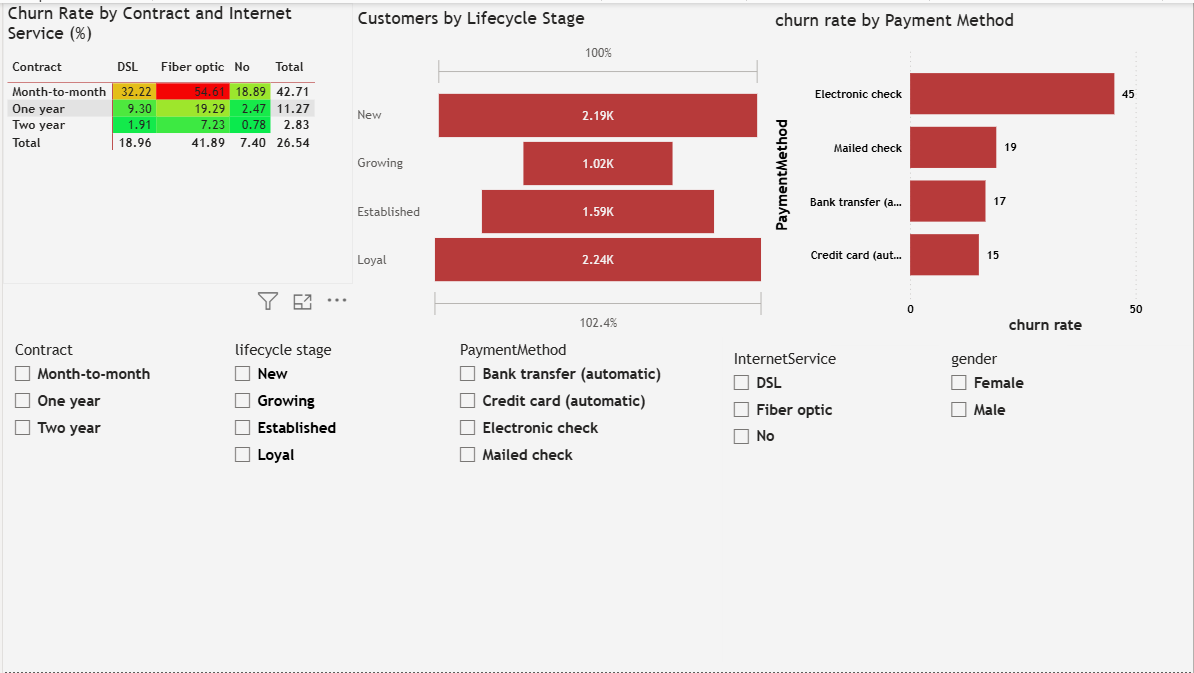

The page's visual inventory and layout, read from the dashboard file:
{"tool":"powerbi","page":{"name":"Segment Analysis","canvas":[1280,720],"ordinal":1},"visuals":[{"type":"pivotTable","title":"Churn Rate by Contract and Internet Service (%)","fields":{"Rows":["Customers Churn Analysis powerBI_30.Contract"],"Columns":["Customers Churn Analysis powerBI_30.InternetService"],"Values":["Customers Churn Analysis powerBI_30.churn rate"]},"box":[0,0,376.6,302.6],"z":0},{"type":"funnel","title":"Customers by Lifecycle Stage","fields":{"Y":["CountNonNull(Customers Churn Analysis powerBI_30.customerID)"],"Category":["Customers Churn Analysis powerBI_30.lifecycle stage"]},"box":[376.6,5.4,449.2,353.7],"z":1000},{"type":"slicer","fields":{"Values":["Customers Churn Analysis powerBI_30.Contract"]},"box":[0,359.5,236,360.9],"z":2000},{"type":"slicer","fields":{"Values":["Customers Churn Analysis powerBI_30.InternetService"]},"box":[773.9,369.1,233.3,351.3],"z":3000},{"type":"slicer","fields":{"Values":["Customers Churn Analysis powerBI_30.gender"]},"box":[1007.2,369.1,273.1,351.3],"z":4000},{"type":"slicer","fields":{"Values":["Customers Churn Analysis powerBI_30.PaymentMethod"]},"box":[478.9,359.5,295,360.9],"z":5000},{"type":"slicer","fields":{"Values":["Customers Churn Analysis powerBI_30.lifecycle stage"]},"box":[236,359.5,242.9,360.9],"z":6000},{"type":"clusteredBarChart","title":"churn rate by Payment Method","fields":{"Category":["Customers Churn Analysis powerBI_30.PaymentMethod"],"Y":["Customers Churn Analysis powerBI_30.churn rate"]},"box":[825.7,6.7,454.6,353.7],"z":7000}]}

Visuals, with their boxes in screenshot pixels (x1, y1, x2, y2), scaled from the page's 1280x720 canvas onto the 1194x673 screenshot:
"Churn Rate by Contract and Internet Service (%)" pivotTable: 0,0,351,283
"Customers by Lifecycle Stage" funnel: 351,5,770,336
slicer - Customers Churn Analysis powerBI_30.Contract: 0,336,220,672
slicer - Customers Churn Analysis powerBI_30.InternetService: 722,345,940,672
slicer - Customers Churn Analysis powerBI_30.gender: 940,345,1193,672
slicer - Customers Churn Analysis powerBI_30.PaymentMethod: 447,336,722,672
slicer - Customers Churn Analysis powerBI_30.lifecycle stage: 220,336,447,672
"churn rate by Payment Method" clusteredBarChart: 770,6,1193,337
